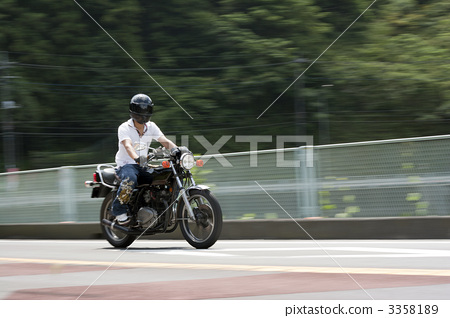helmet: (126, 92, 152, 118)
